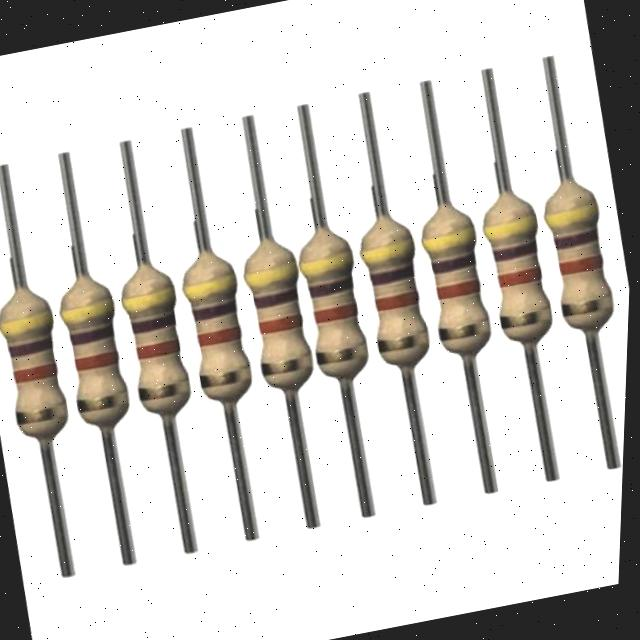Resistor: (446, 124, 579, 404), (275, 158, 397, 458), (38, 226, 162, 507), (98, 214, 222, 486), (513, 107, 637, 377), (216, 164, 338, 438), (334, 160, 458, 427), (161, 203, 282, 462), (0, 241, 102, 524), (401, 155, 512, 398)
